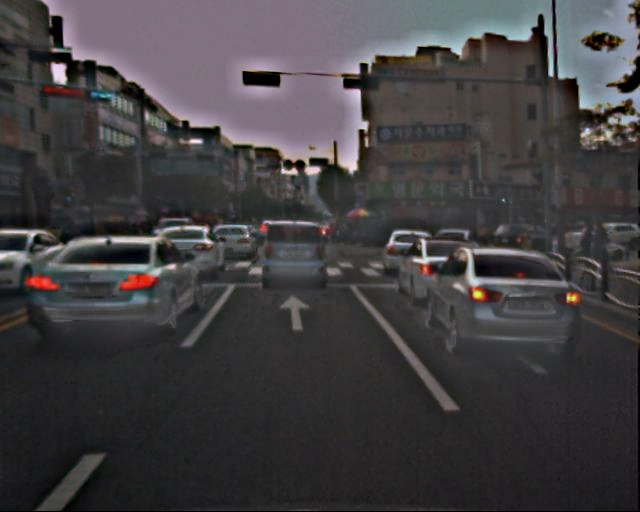person: (572, 218, 601, 288)
